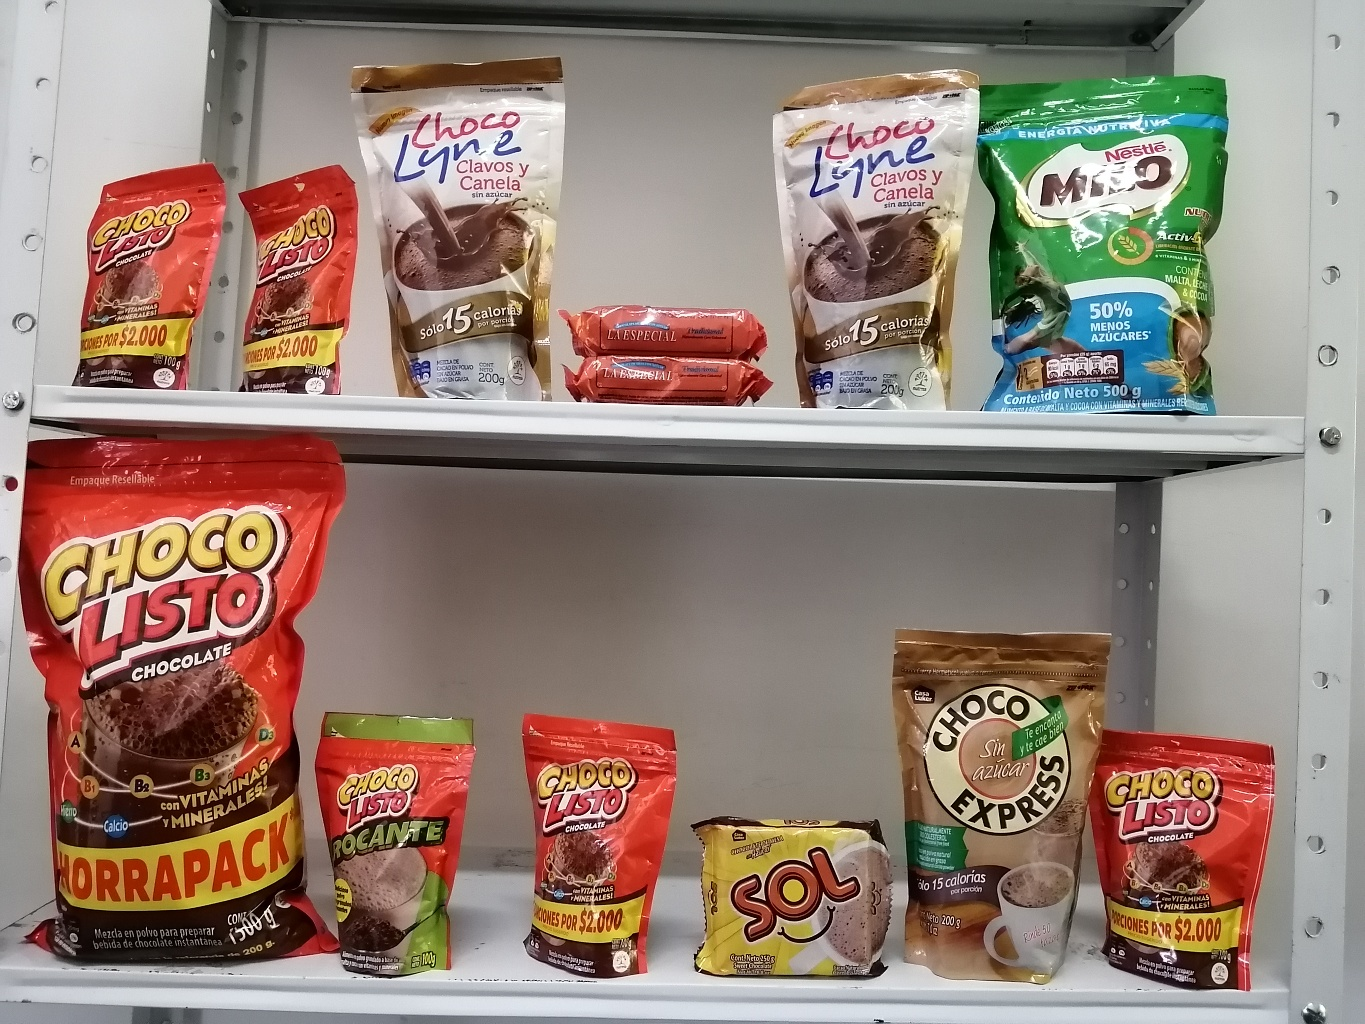COL0170102DYP10000: (312, 711, 477, 977)
COL0170103DYP1,500: (2, 435, 344, 962)
COL0170103DYP10000: (93, 169, 224, 394)
COL0170205DYP50000: (977, 73, 1221, 415)
